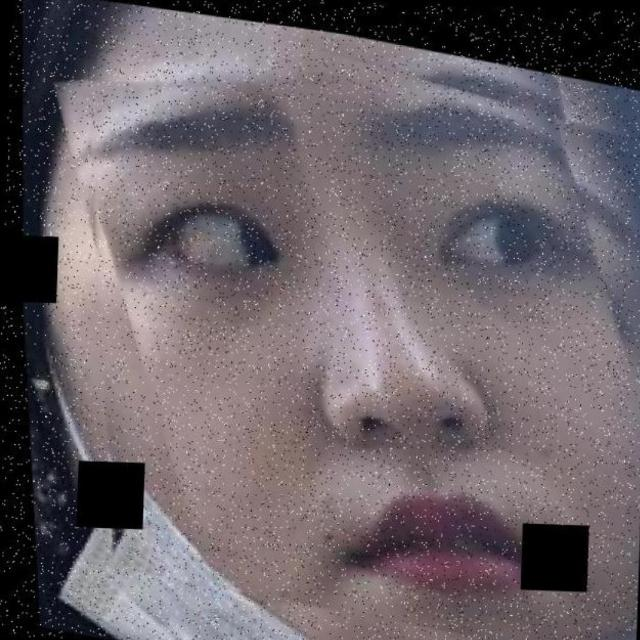Disgust: (59, 33, 640, 640)
